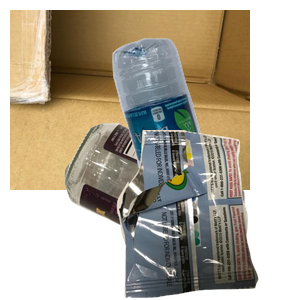cardboard: (10, 10, 250, 190)
glass: (62, 120, 300, 300)
plastic: (110, 36, 300, 216)
trash: (114, 130, 300, 300)
